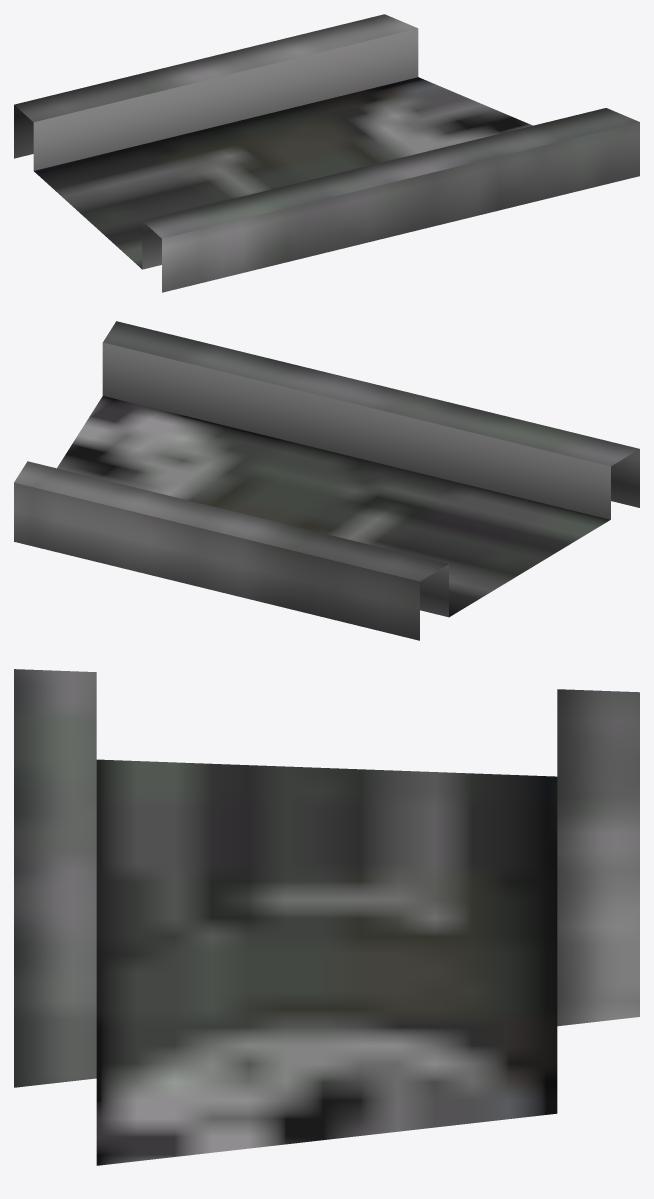
The model's file is Shared - Armor - Tanker Truck - Damage State 31 - CVTanker_d31.glb.
3 renders of one model, top to bottom at view 1: azimuth 30°, elevation 25°; view 2: azimuth 150°, elevation 25°; view 3: azimuth 270°, elevation 25°, orthographic. The views are drawn at different scales.
Parts seen in each view (by area): view 1: CVTANKER_D31; view 2: CVTANKER_D31; view 3: CVTANKER_D31.
Boxes of the visible parts, box(x1,y1,x2,y2) form: CVTANKER_D31: box(14, 14, 639, 292); CVTANKER_D31: box(14, 321, 639, 640); CVTANKER_D31: box(14, 669, 639, 1165).
Bounding box in the file's own units: 8.31 × 0.8981 × 5.25.
1 material, 1 textured.
